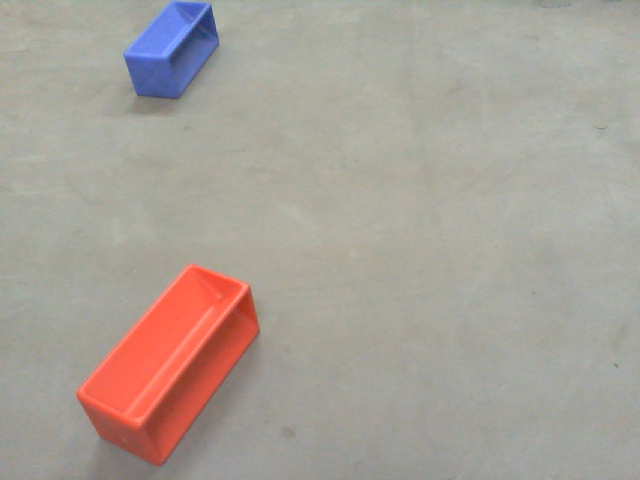BlueSample: (119, 1, 223, 99)
RedSample: (68, 261, 267, 466)
